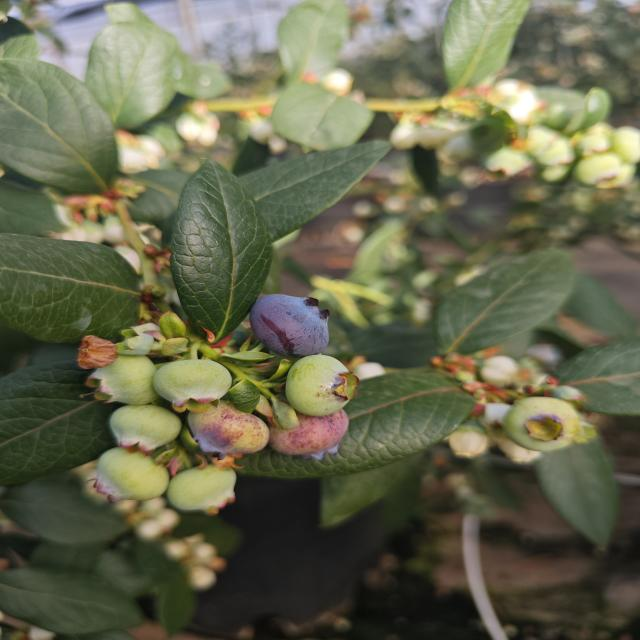ripe: (246, 291, 345, 357)
